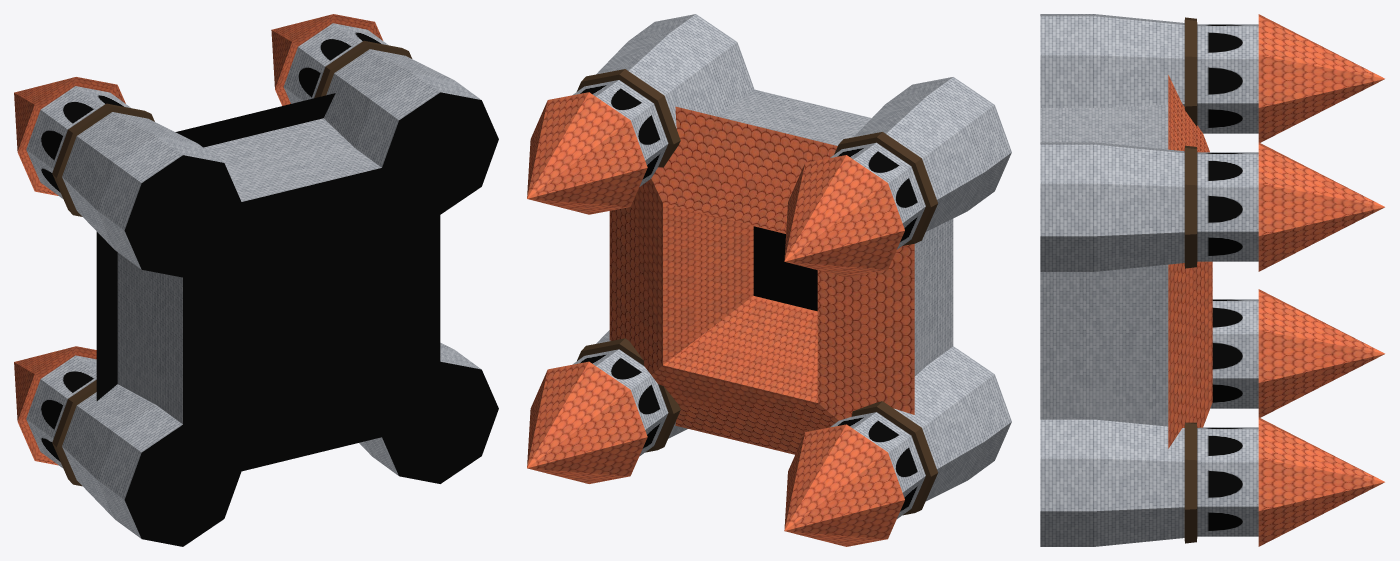
The model's file is zamek1.fbx.
3 renders of one model, left to right at view 1: azimuth 30°, elevation 25°; view 2: azimuth 150°, elevation 25°; view 3: azimuth 270°, elevation 25°, orthographic. The views are drawn at different scales.
Parts seen in each view (by area): view 1: zamek; view 2: zamek; view 3: zamek.
Part boxes in pixels (x1=…): zamek: x1=14, y1=14, x2=498, y2=546; zamek: x1=527, y1=14, x2=1011, y2=546; zamek: x1=1040, y1=14, x2=1384, y2=546.
Size of the model in its own units: 501 by 640 by 640.
Materials: 1 (1 with a texture image).
